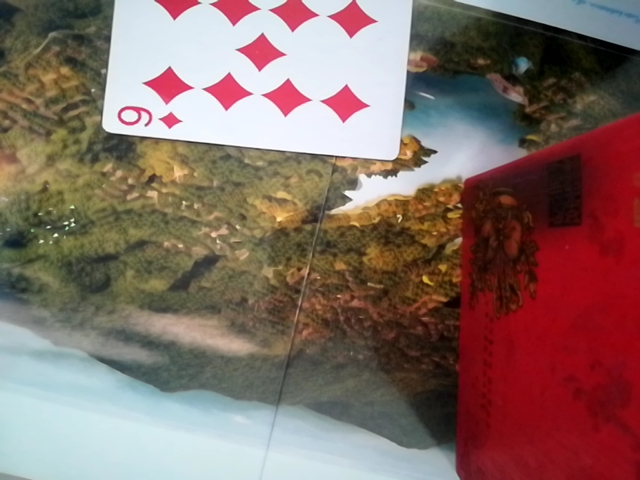fk 9: (95, 0, 413, 164)
